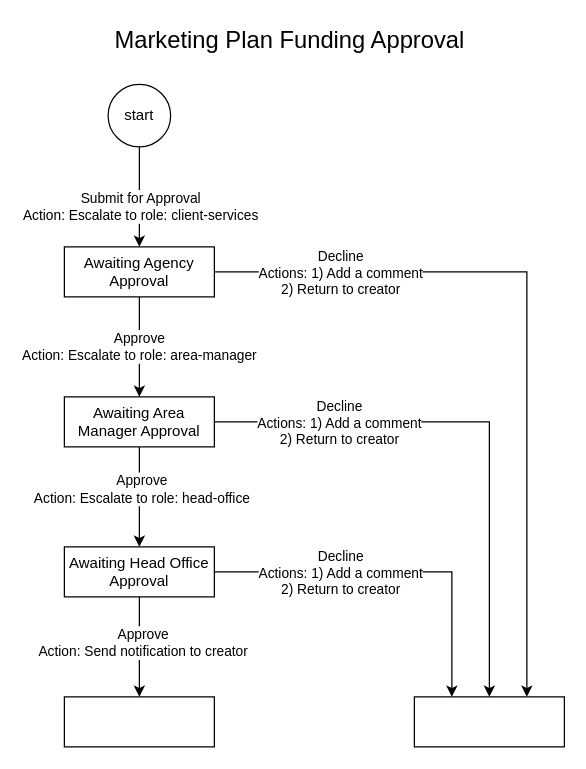
This 586x769 diagram has some shape labels left out. Here are the shapes that lost their labels. From the top down, the centre of each, then its label:
the point at 138,721: Approved
the point at 488,721: Declined
